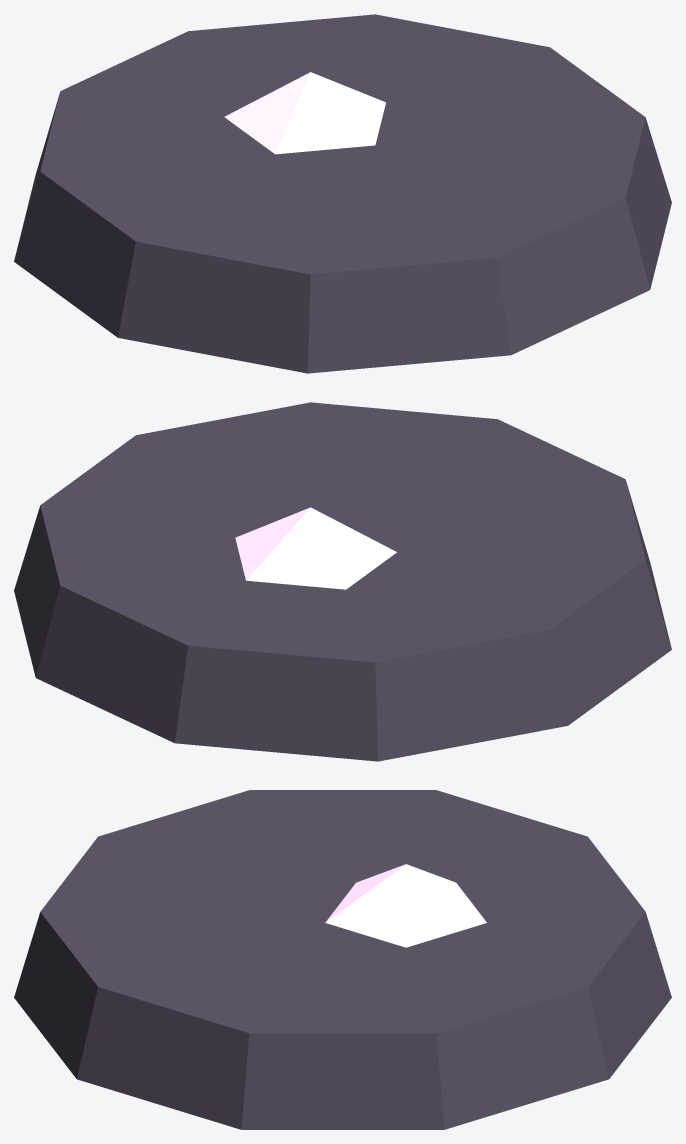
The model's file is source_well.glb.
The picture shows the model from 3 angles, top to bottom: view 1: azimuth 30°, elevation 25°; view 2: azimuth 150°, elevation 25°; view 3: azimuth 270°, elevation 25°; orthographic projection. The views are drawn at different scales.
Parts seen in each view (by area): view 1: rim, core; view 2: rim, core; view 3: rim, core.
Part boxes in pixels (<box>): rim: <box>14,14,671,373</box>; core: <box>224,72,385,154</box>; rim: <box>14,402,671,761</box>; core: <box>235,507,396,589</box>; rim: <box>14,790,671,1129</box>; core: <box>325,864,486,947</box>.
Bounding box in the file's own units: 2.38 × 0.76 × 2.5.
